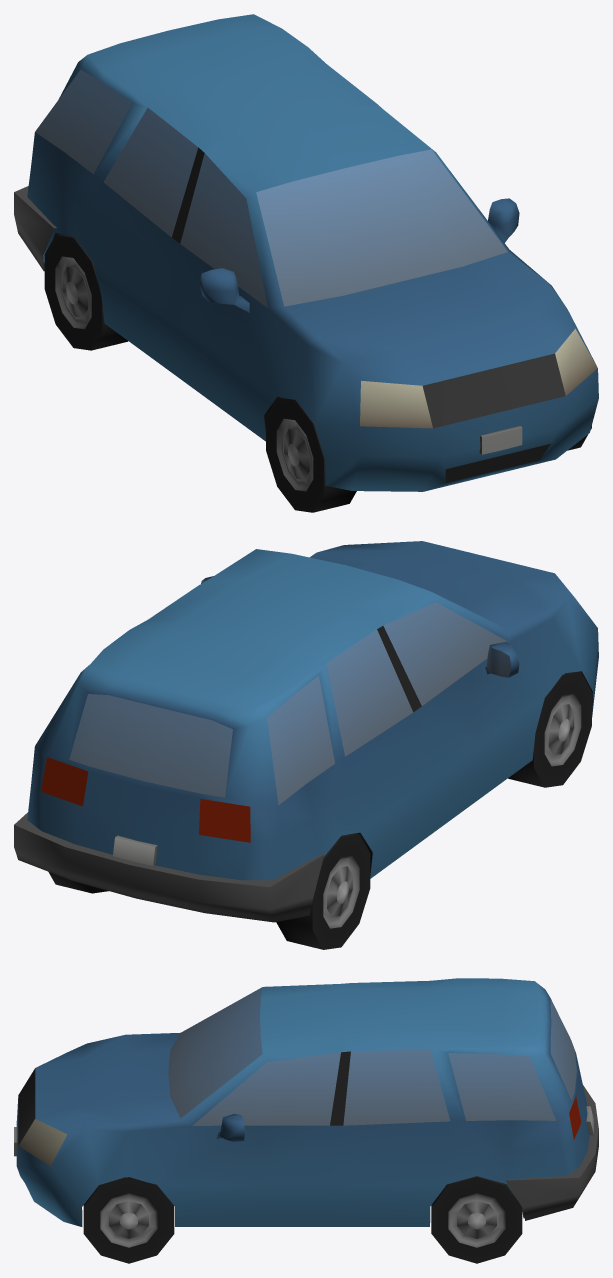
File: vehicles-cars-suv_v1.glb
The picture shows the model from 3 angles, top to bottom: view 1: azimuth 30°, elevation 25°; view 2: azimuth 150°, elevation 25°; view 3: azimuth 270°, elevation 25°; orthographic projection. The views are drawn at different scales.
Visible parts, largest first — view 1: SUV.001, SUV; view 2: SUV.001, SUV; view 3: SUV.001, SUV.
Boxes of the visible parts, bbox=[...] form: SUV.001: bbox=[14, 14, 598, 512]; SUV: bbox=[35, 69, 507, 491]; SUV.001: bbox=[14, 541, 598, 949]; SUV: bbox=[69, 580, 581, 928]; SUV.001: bbox=[14, 978, 598, 1263]; SUV: bbox=[100, 987, 576, 1247].
Bounding box in the file's own units: 2.35 × 1.87 × 4.8.
